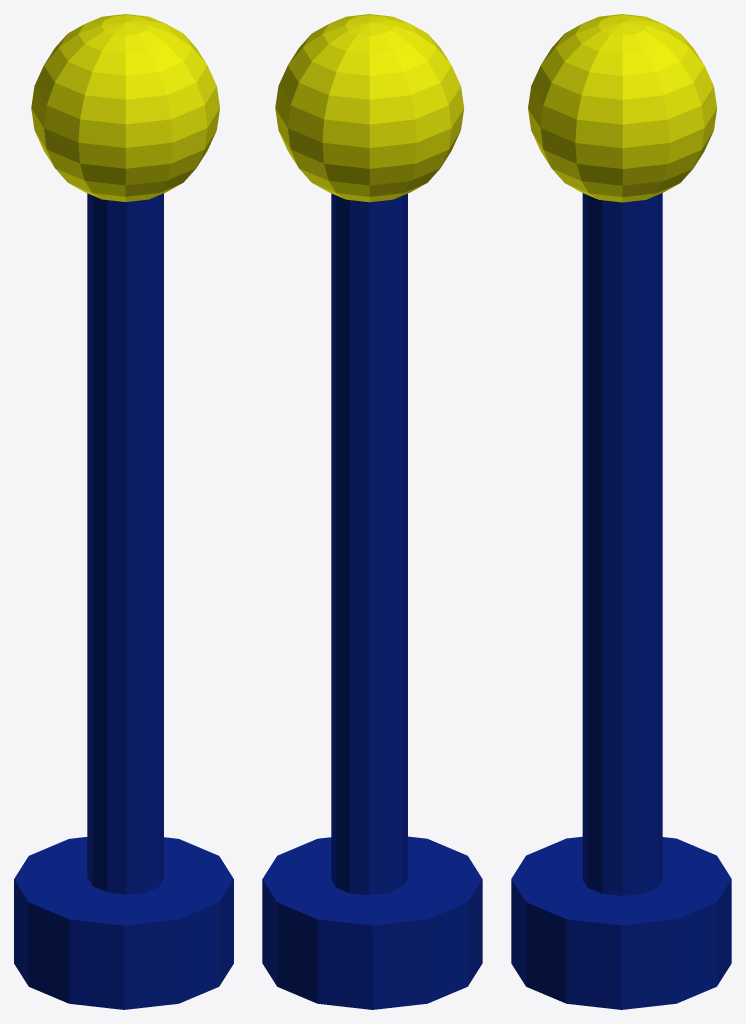
3 renders of one model, left to right at view 1: azimuth 30°, elevation 25°; view 2: azimuth 150°, elevation 25°; view 3: azimuth 270°, elevation 25°, orthographic.
Visible parts, largest first — view 1: 円柱, 円柱.001, 球; view 2: 円柱, 円柱.001, 球; view 3: 円柱, 円柱.001, 球.
Boxes of the visible parts, x1,y1,x2,y2 form: 円柱: (87, 193, 163, 894); 円柱.001: (14, 837, 233, 1009); 球: (31, 14, 219, 201); 円柱: (331, 193, 407, 895); 円柱.001: (262, 836, 482, 1009); 球: (275, 14, 464, 202); 円柱: (582, 193, 662, 895); 円柱.001: (511, 836, 731, 1009); 球: (528, 14, 717, 202).
Size of the model in its own units: 201 by 947 by 201.
